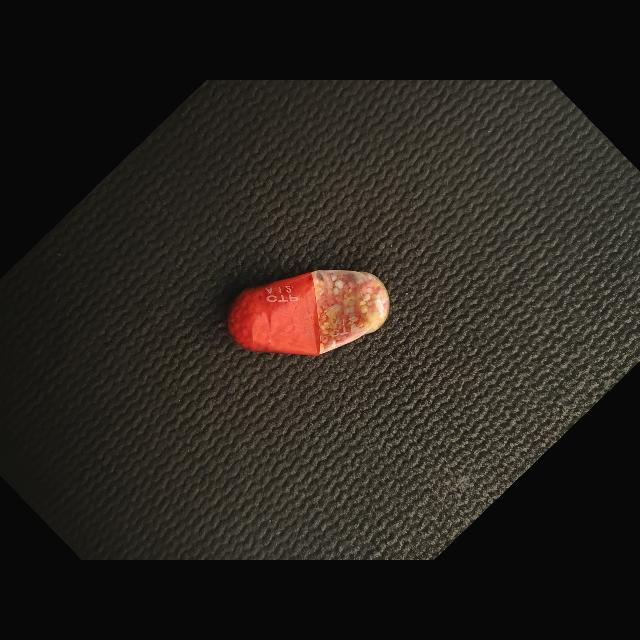Defective Capsule: (227, 270, 390, 356)
